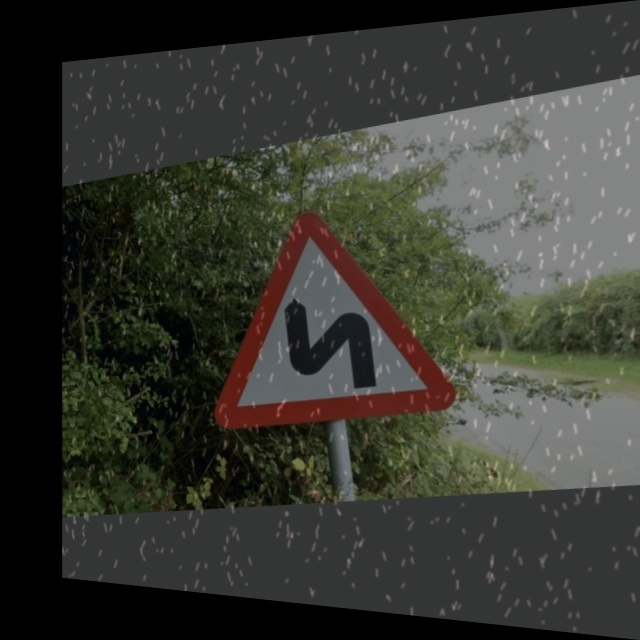Left_Reverse_Bend: (195, 189, 460, 444)
